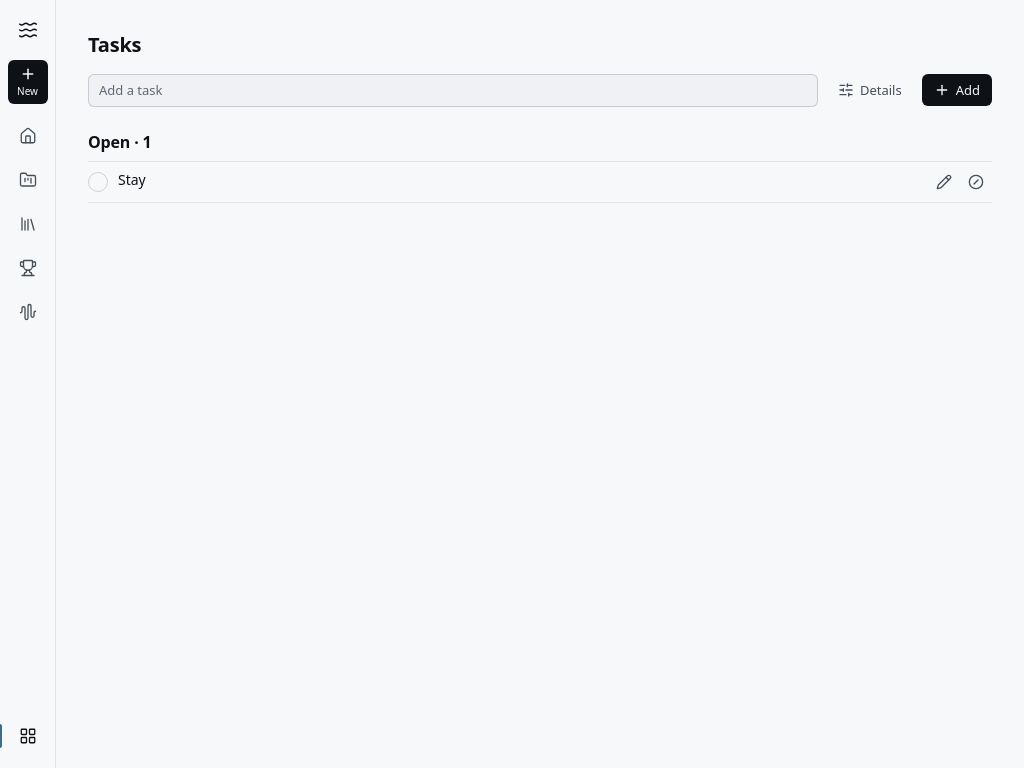
Test case: Tasks page › cancels editing with Escape without saving
Expected: the heading "Tasks" is shown, 88,31 -> 141,58
Expected: the heading "Open · 1" is shown, 88,131 -> 992,162
Click the button named "Edit: Stay": (944,182) 928,166 -> 960,198
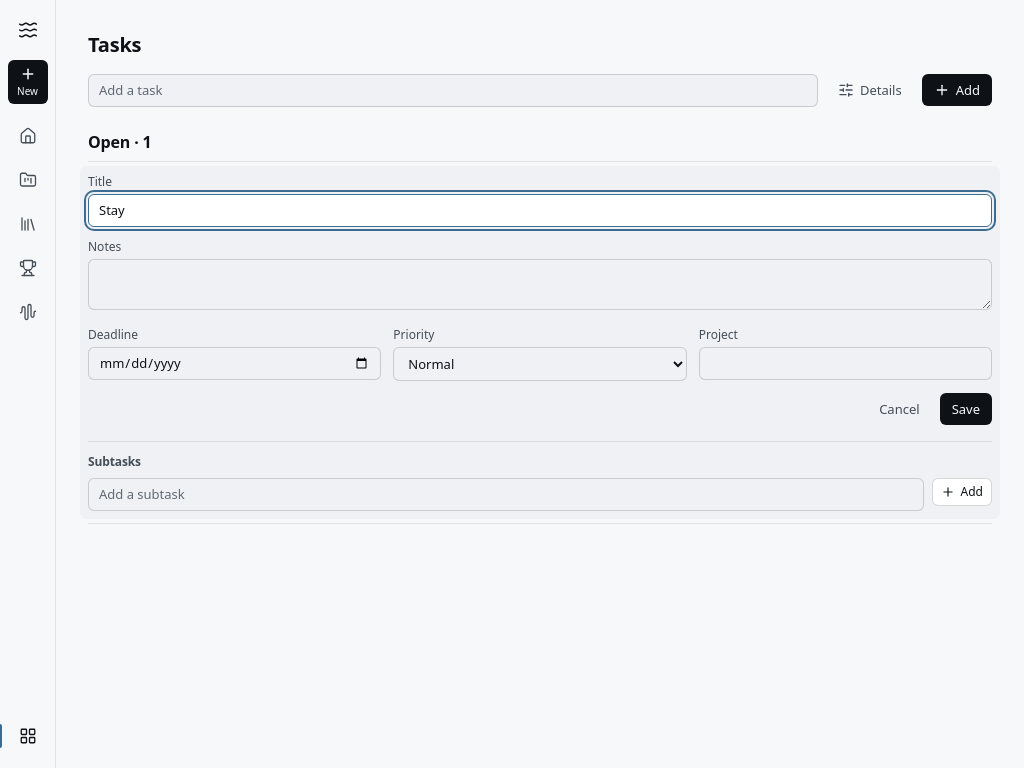
In the field labelled "Title": (540,210) 88,194 -> 992,227, type " changed"
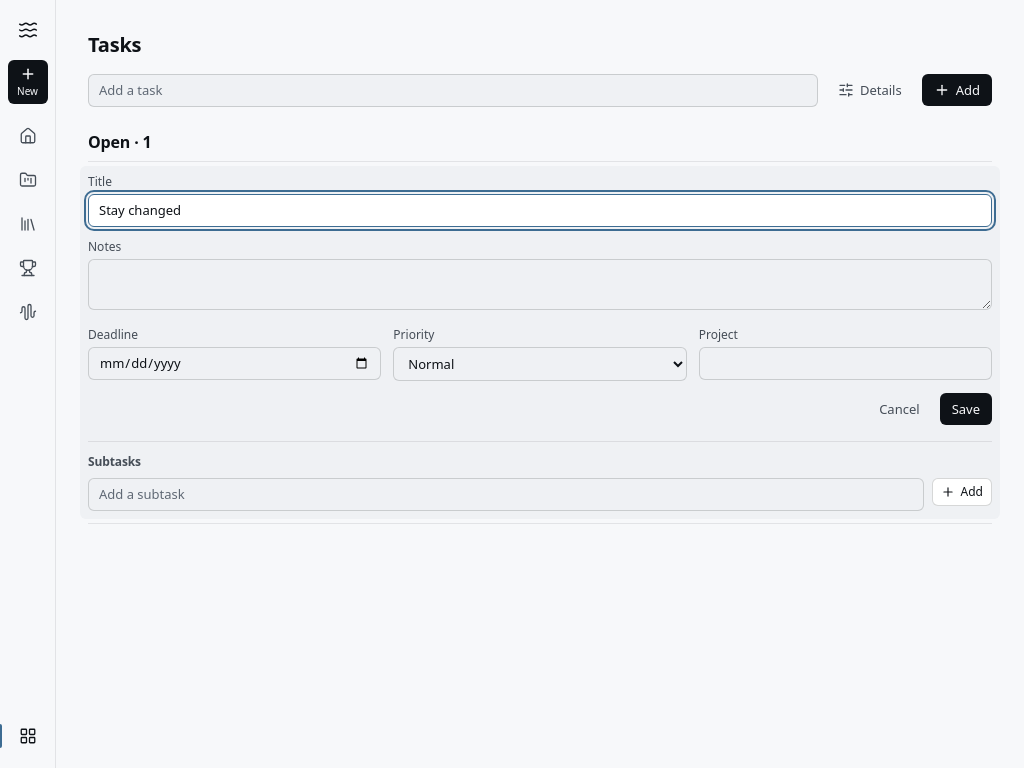
Press Escape
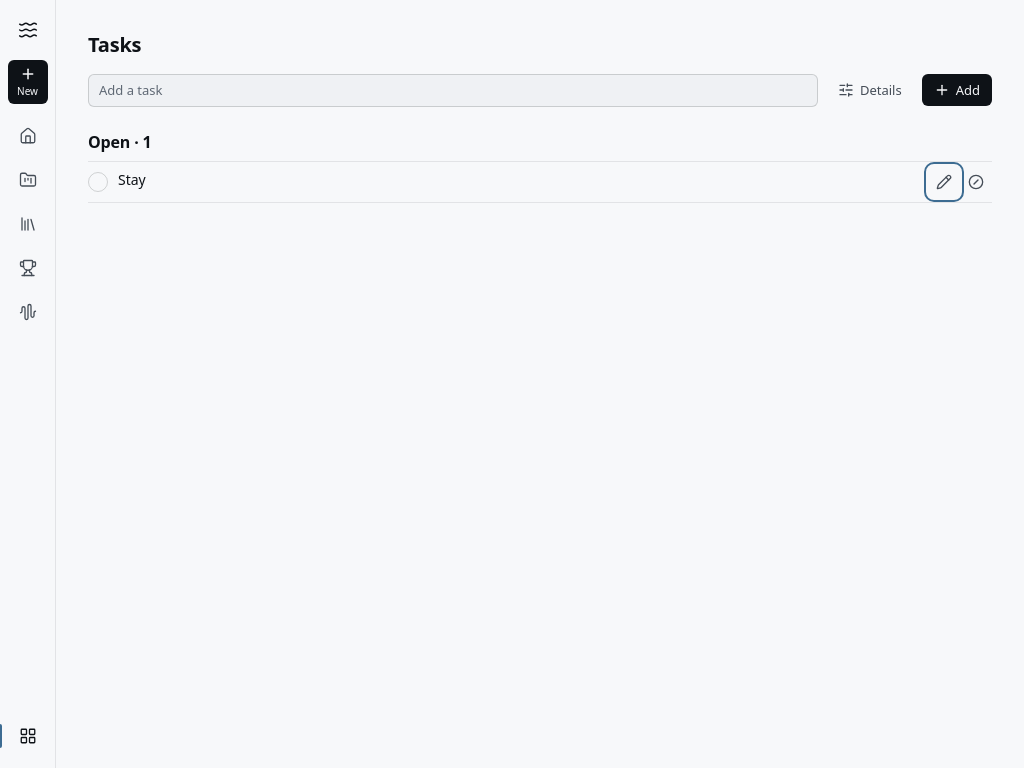
Now the text "Stay" is shown, box 118,170 -> 146,189
